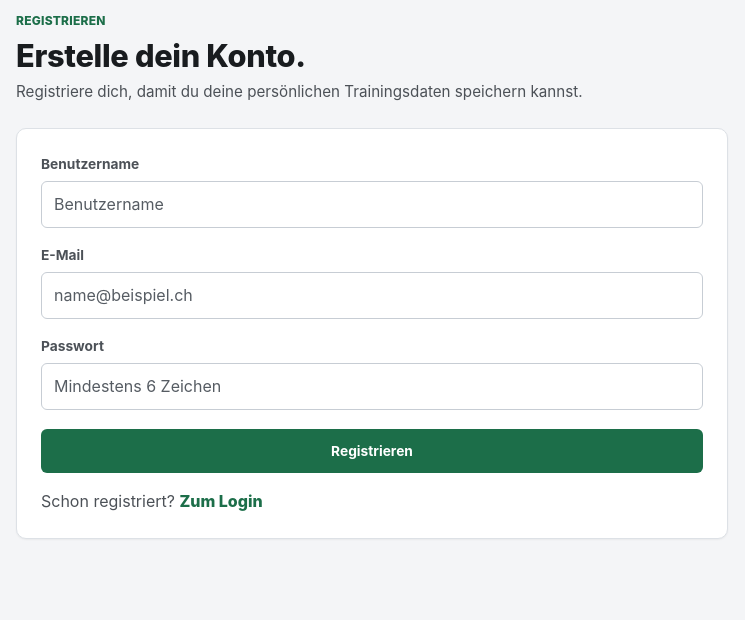
Test case: RegisterView › Stage 3D: a 429 response shows the rate-limit message, a Retry-After countdown, and disables the submit button
Type "newuser" into the field with id "username" at (372, 204), box 41,181 -> 703,228
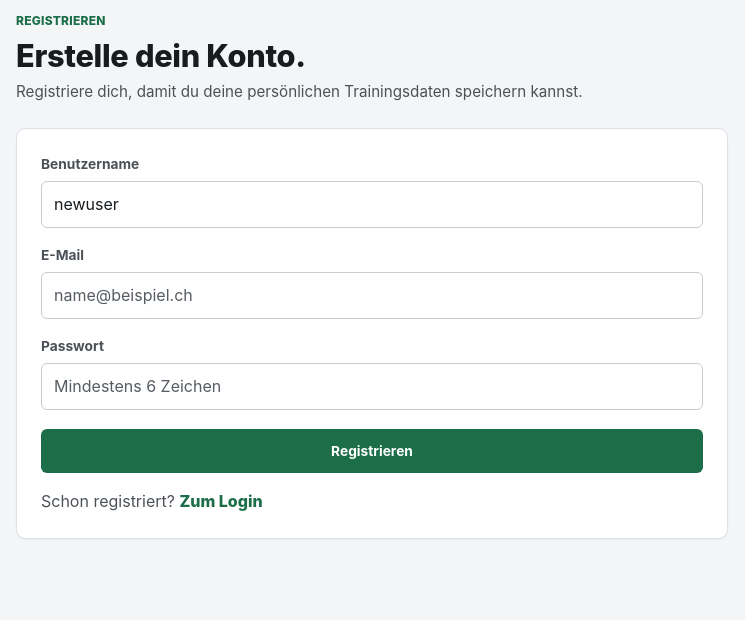
Type "newuser@example.test" into the field with id "email" at (372, 296), box 41,272 -> 703,319
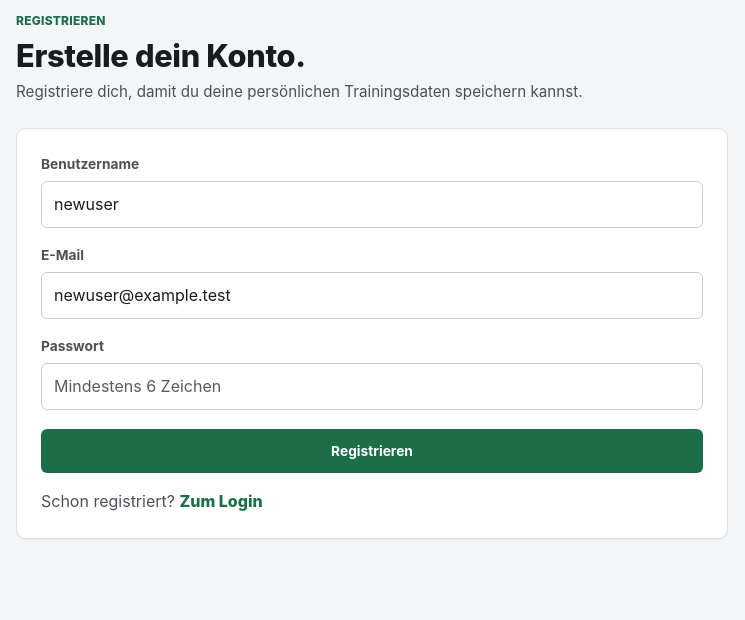
Type "a-strong-password" into the password field labelled "Passwort" at (372, 386), box 41,363 -> 703,410
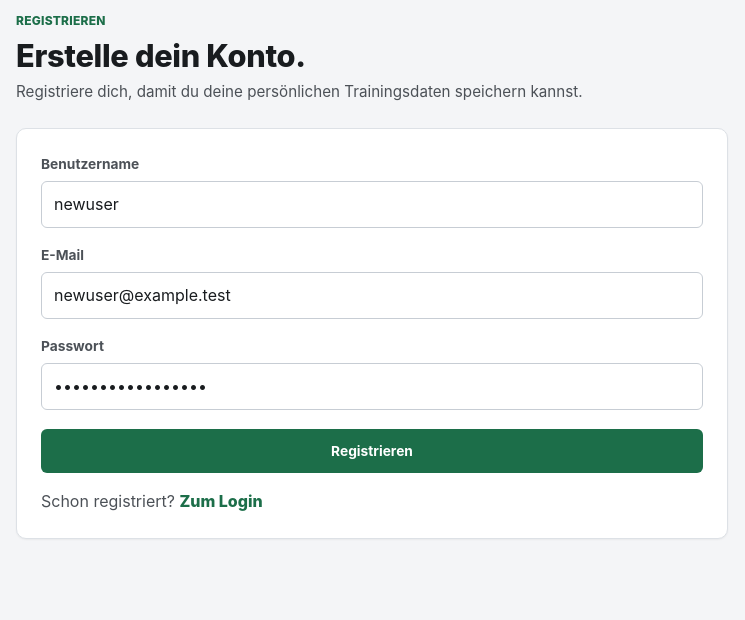
Submit the form, box 41,153 -> 703,473
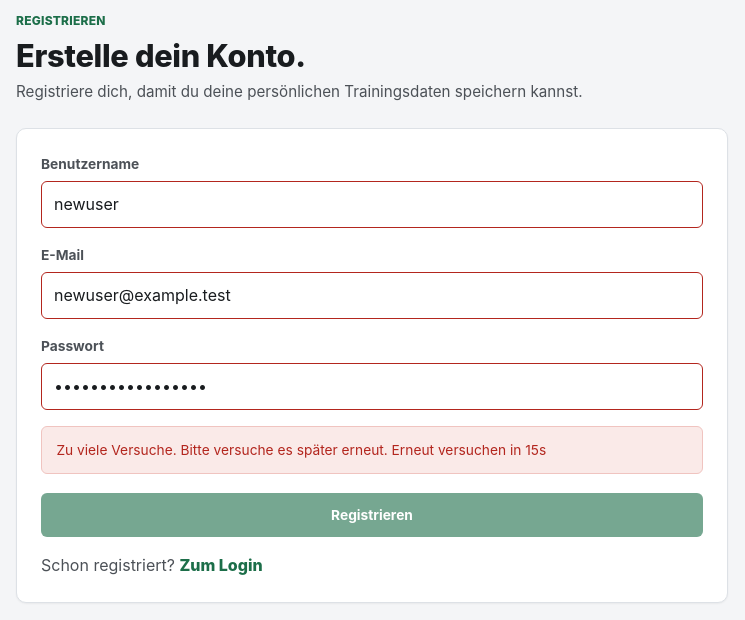
Expected: the message "Zu viele Versuche. Bitte versuche es später erneut. Erneut versuchen in 15s" is shown, 41,426 -> 703,474
Expected: the submit button is disabled, 41,494 -> 703,537
